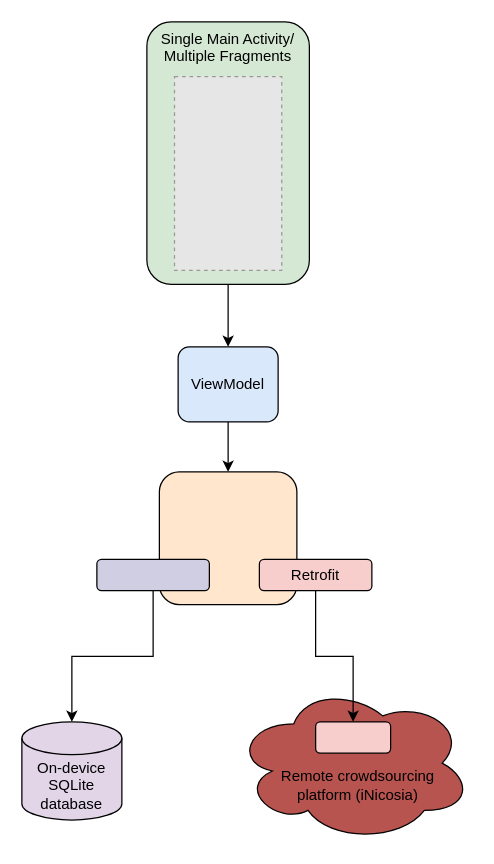
This 494x864 diagram has some shape labels left out. Grey dashed boxes stand in for pictures. Each missing label, with the centre of its shape:
Repository: [227,538]
REST API: [352,737]
Room ORM: [152,574]
